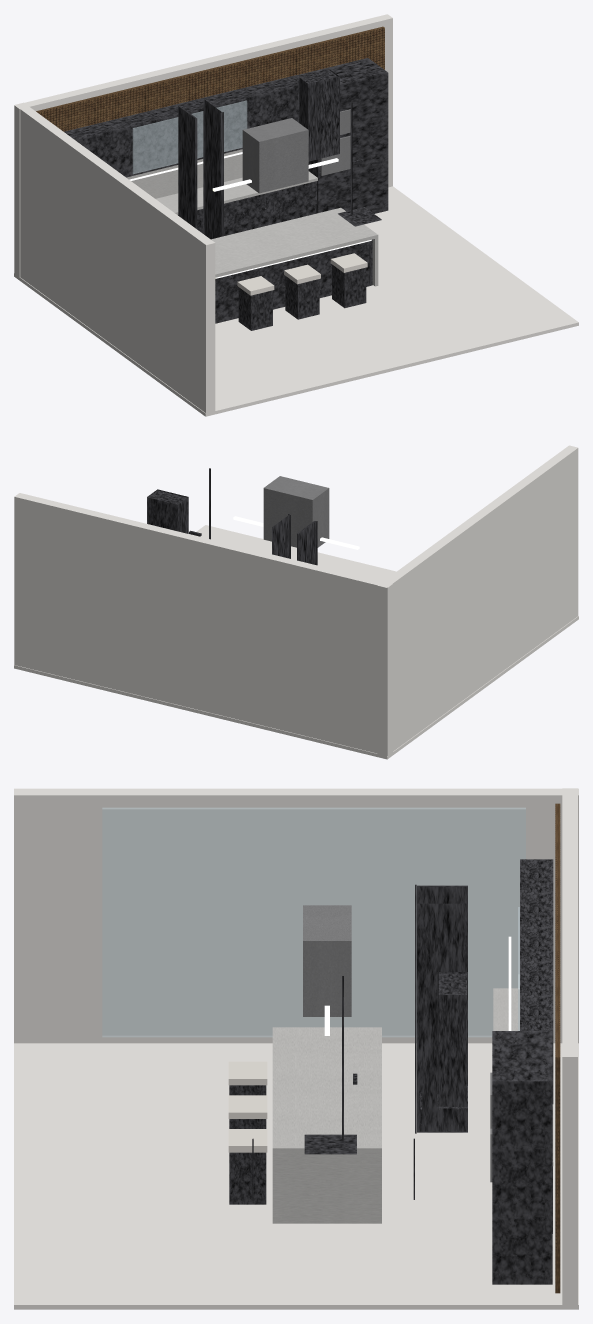
Rendered from cozinha-interna.glb.
The picture shows the model from 3 angles, top to bottom: view 1: azimuth 30°, elevation 25°; view 2: azimuth 150°, elevation 25°; view 3: azimuth 270°, elevation 25°; orthographic projection. The views are drawn at different scales.
Parts seen in each view (by area): view 1: node_ceramica_acetinada, node_metal_matte_black, node_madeira_deck_natural, node_pedra_bancada_clearcoat, node_inox_escovado, node_vidro_pele_de_vidro, node_tecido_juta_linho, node_fita_led_2700k; view 2: node_ceramica_acetinada, node_inox_escovado, node_metal_matte_black; view 3: node_ceramica_acetinada, node_vidro_pele_de_vidro, node_metal_matte_black, node_pedra_bancada_clearcoat, node_inox_escovado, node_madeira_deck_natural, node_tecido_juta_linho.
Part boxes in pixels (x1,y1,x2,y2): node_ceramica_acetinada: (14, 14, 578, 416); node_metal_matte_black: (64, 58, 388, 330); node_madeira_deck_natural: (36, 26, 384, 131); node_pedra_bancada_clearcoat: (126, 149, 378, 286); node_inox_escovado: (242, 109, 350, 193); node_vidro_pele_de_vidro: (132, 100, 247, 173); node_tecido_juta_linho: (237, 253, 367, 295); node_fita_led_2700k: (129, 152, 371, 278); node_ceramica_acetinada: (14, 445, 578, 759); node_inox_escovado: (263, 476, 329, 547); node_metal_matte_black: (147, 468, 317, 565); node_ceramica_acetinada: (14, 788, 578, 1309); node_vidro_pele_de_vidro: (102, 807, 525, 1037); node_metal_matte_black: (229, 859, 553, 1284); node_pedra_bancada_clearcoat: (272, 988, 553, 1223); node_inox_escovado: (303, 905, 492, 1182); node_madeira_deck_natural: (555, 803, 560, 1293); node_tecido_juta_linho: (228, 1061, 267, 1152).
Bounding box in the file's own units: 7.2 × 3.16 × 6.4.
8 materials, 4 textured.
